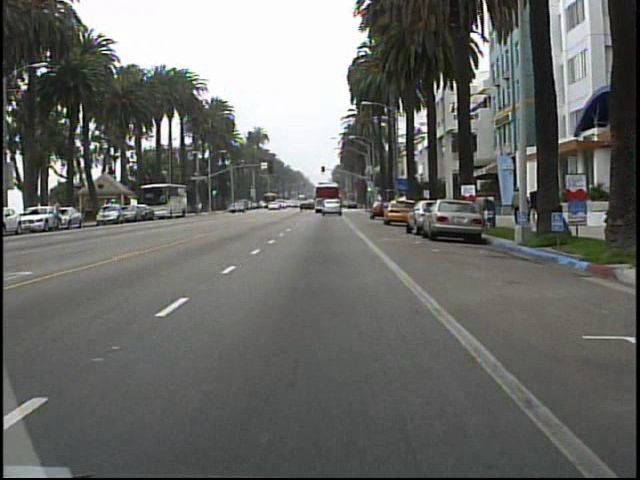person: (537, 180, 556, 230), (508, 181, 525, 227)
